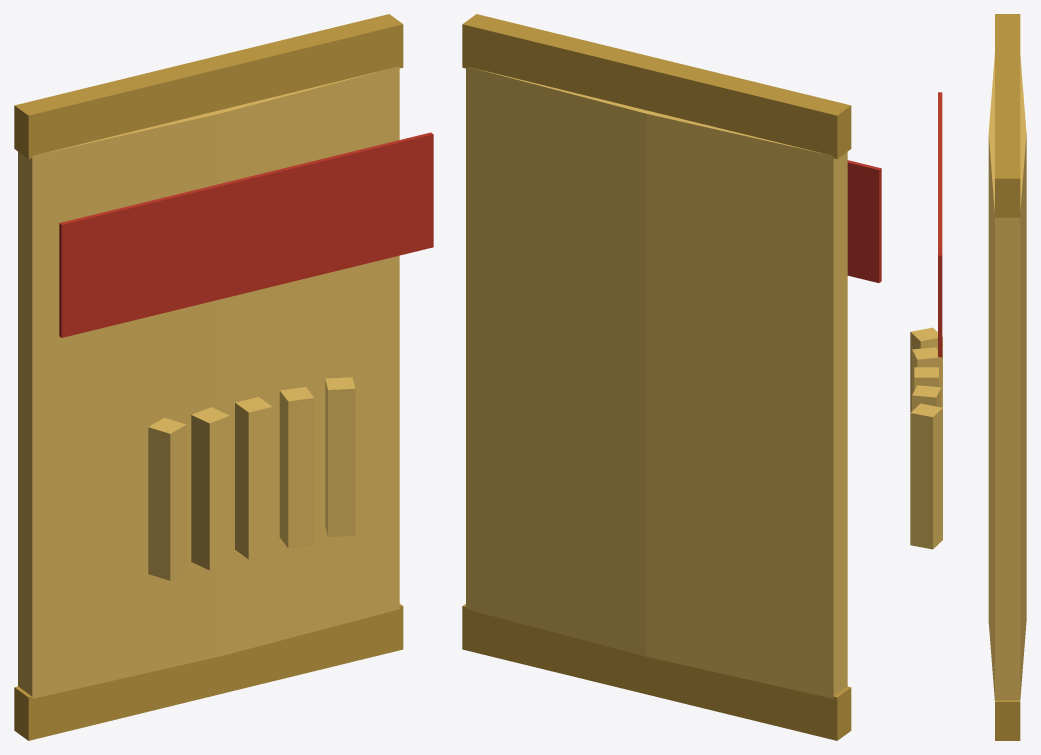
The model's file is g-oven-chips.glb.
3 views of the same model, side by side, from view 1: azimuth 30°, elevation 25°; view 2: azimuth 150°, elevation 25°; view 3: azimuth 270°, elevation 25° (orthographic). The views are drawn at different scales.
Parts seen in each view (by area): view 1: g_oven_chips; view 2: g_oven_chips; view 3: g_oven_chips.
Part boxes in pixels (bbox=[...]): g_oven_chips: bbox=[14, 14, 433, 740]; g_oven_chips: bbox=[462, 14, 881, 740]; g_oven_chips: bbox=[910, 14, 1026, 740].
Bounding box in the file's own units: 0.1734 × 0.2764 × 0.0517.
